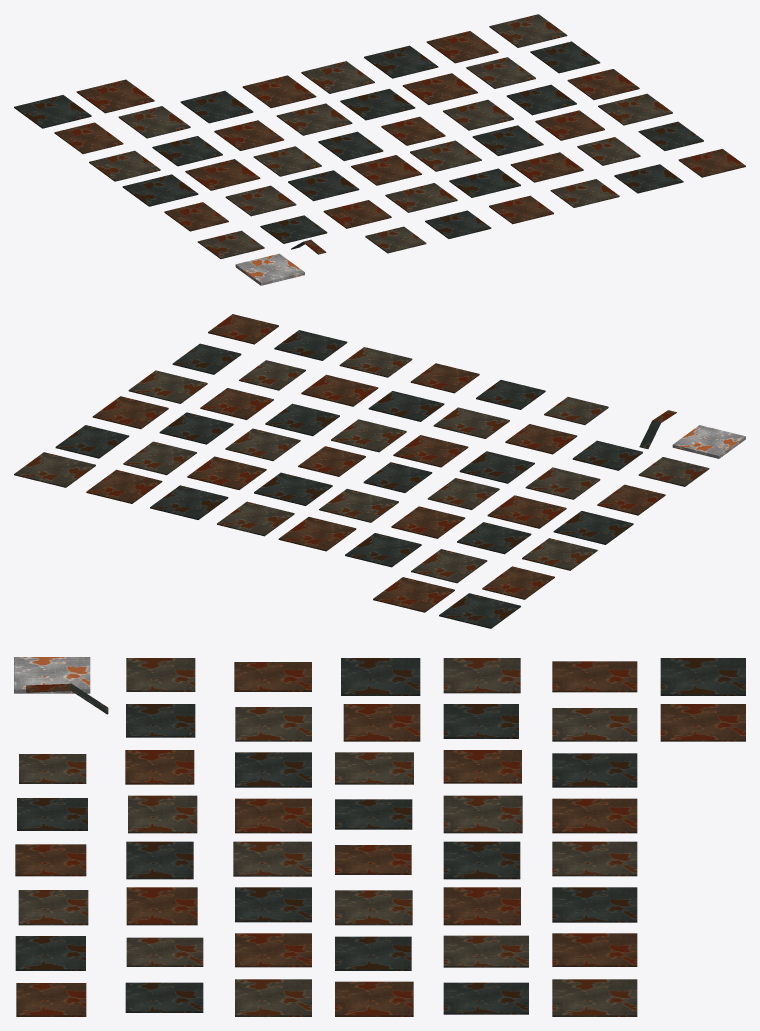
File: R4H_HullKit.glb
The picture shows the model from 3 angles, top to bottom: view 1: azimuth 30°, elevation 25°; view 2: azimuth 150°, elevation 25°; view 3: azimuth 270°, elevation 25°; orthographic projection. The views are drawn at different scales.
Parts seen in each view (by area): view 1: plate_15_0, plate_15_1, plate_15_2, plate_07_1, plate_11_0, plate_14_1, plate_13_2, plate_14_0, plate_11_2, plate_07_0, plate_07_2, plate_13_1 (+37 smaller); view 2: plate_15_0, plate_15_1, plate_15_2, plate_07_1, plate_14_1, plate_11_0, plate_13_2, plate_14_0, plate_11_2, plate_07_0, plate_07_2, plate_13_1 (+37 smaller); view 3: plate_15_0, plate_15_1, plate_15_2, plate_11_0, plate_14_1, plate_13_2, plate_14_0, plate_11_2, plate_07_1, plate_11_1, plate_13_1, plate_07_2 (+38 smaller).
Part boxes in pixels (<box>): plate_15_0: <box>489,14,567,47</box>; plate_15_1: <box>14,95,91,128</box>; plate_15_2: <box>76,79,154,113</box>; plate_07_1: <box>122,174,198,206</box>; plate_11_0: <box>276,103,352,135</box>; plate_14_1: <box>364,45,438,78</box>; plate_13_2: <box>242,75,316,108</box>; plate_14_0: <box>301,61,374,93</box>; plate_11_2: <box>402,73,477,104</box>; plate_07_0: <box>598,93,672,125</box>; plate_07_2: <box>185,159,260,190</box>; plate_13_1: <box>180,90,253,123</box>; plate_15_0: <box>14,452,95,487</box>; plate_15_1: <box>439,593,520,628</box>; plate_15_2: <box>373,577,454,612</box>; plate_07_1: <box>553,511,633,544</box>; plate_14_1: <box>150,485,228,519</box>; plate_11_0: <box>319,489,398,522</box>; plate_13_2: <box>278,517,356,551</box>; plate_14_0: <box>217,501,294,536</box>; plate_11_2: <box>187,456,266,489</box>; plate_07_0: <box>128,370,207,403</box>; plate_07_2: <box>487,495,566,528</box>; plate_13_1: <box>345,533,421,567</box>; plate_15_0: <box>552,979,637,1016</box>; plate_15_1: <box>660,658,745,695</box>; plate_15_2: <box>660,704,745,741</box>; plate_11_0: <box>443,795,522,833</box>; plate_14_1: <box>552,887,637,922</box>; plate_13_2: <box>552,798,637,833</box>; plate_14_0: <box>552,841,637,876</box>; plate_11_2: <box>443,887,520,925</box>; plate_07_1: <box>341,658,420,695</box>; plate_11_1: <box>443,841,520,879</box>; plate_13_1: <box>552,753,637,787</box>; plate_07_2: <box>343,704,420,741</box>.
Bounding box in the file's own units: 5.45 × 0.1789 × 4.72.
Materials: 5 (5 with a texture image).
